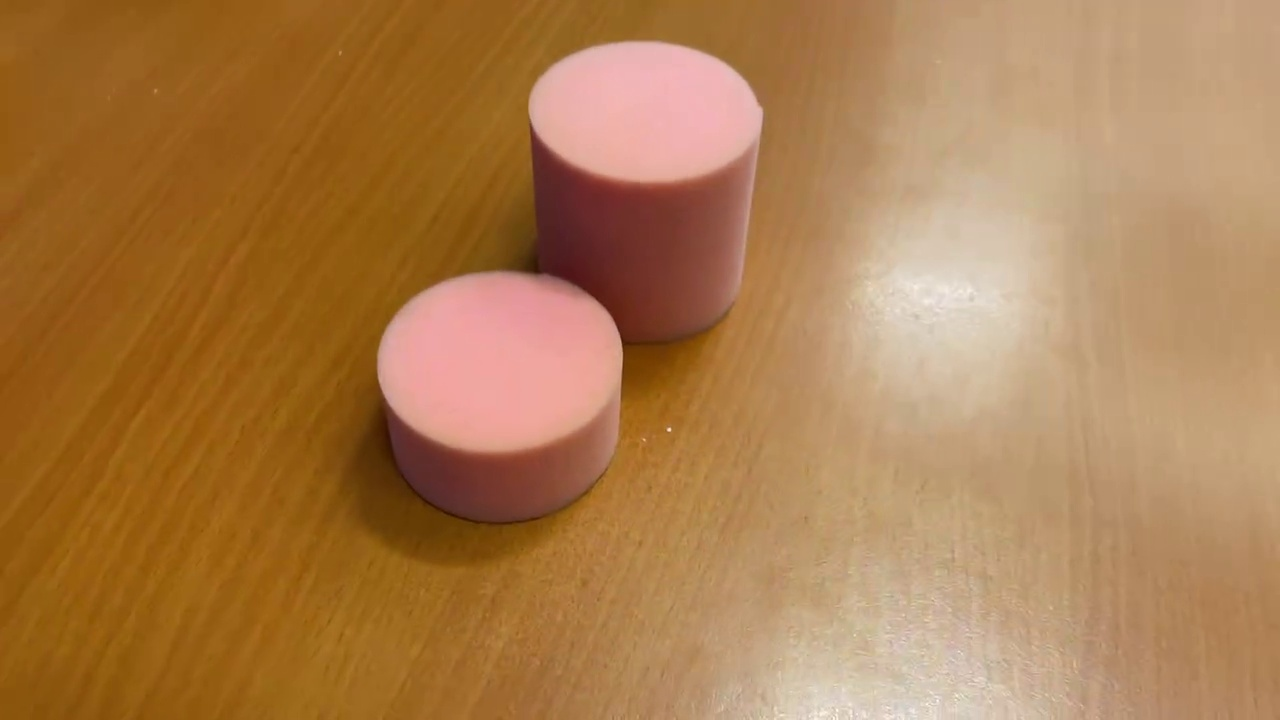Clyinder_short: (365, 264, 630, 533)
Cylinder: (522, 34, 768, 351)
